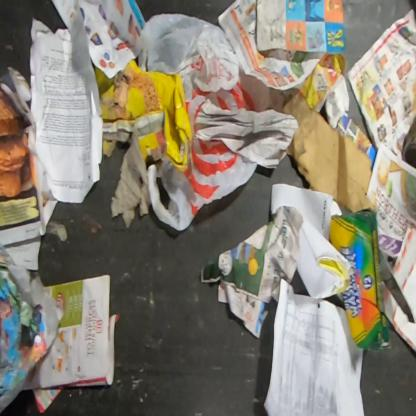cardboard: (282, 90, 378, 214), (93, 59, 193, 173), (381, 224, 415, 356)
soft_plastic: (133, 13, 300, 232)
